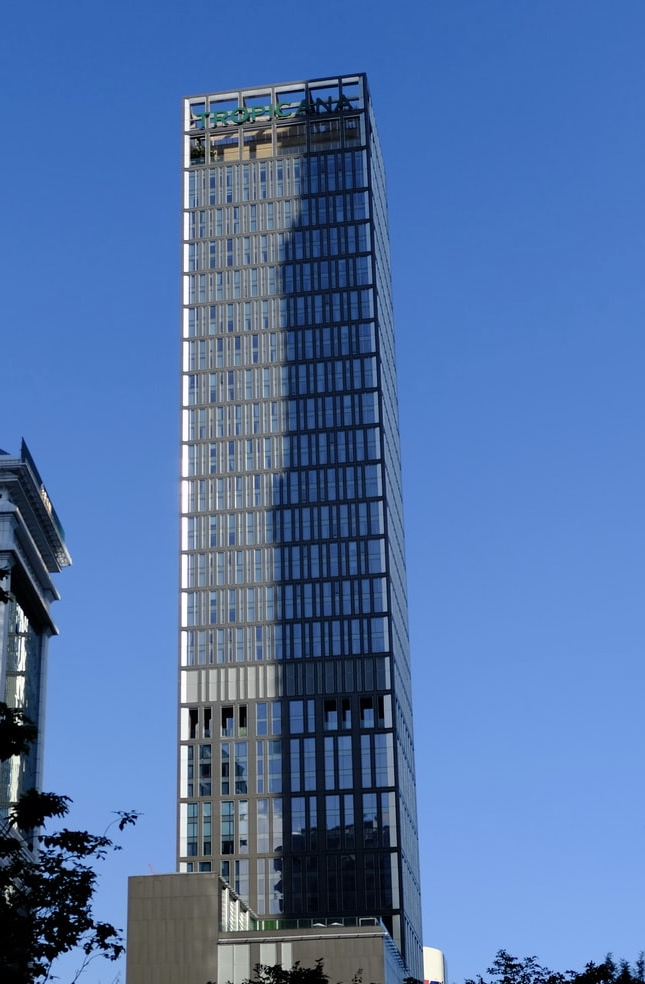Sky Building: (150, 70, 457, 939)
